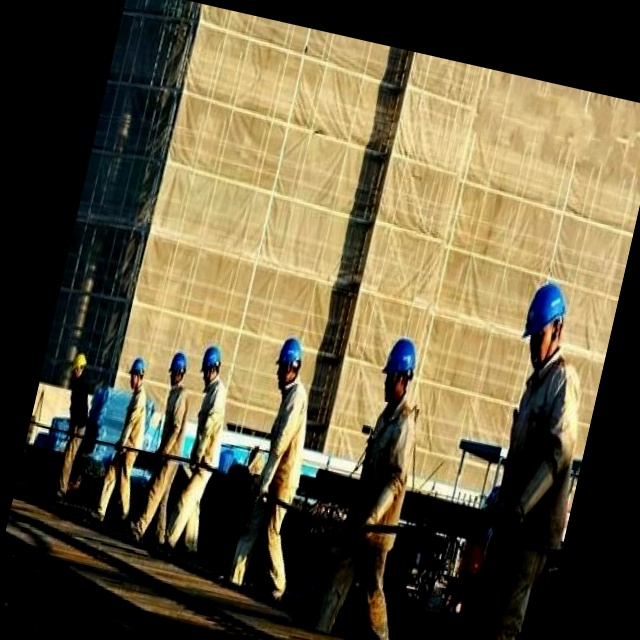Con_Casco: (517, 279, 574, 367), (376, 336, 423, 407), (270, 335, 308, 392)
